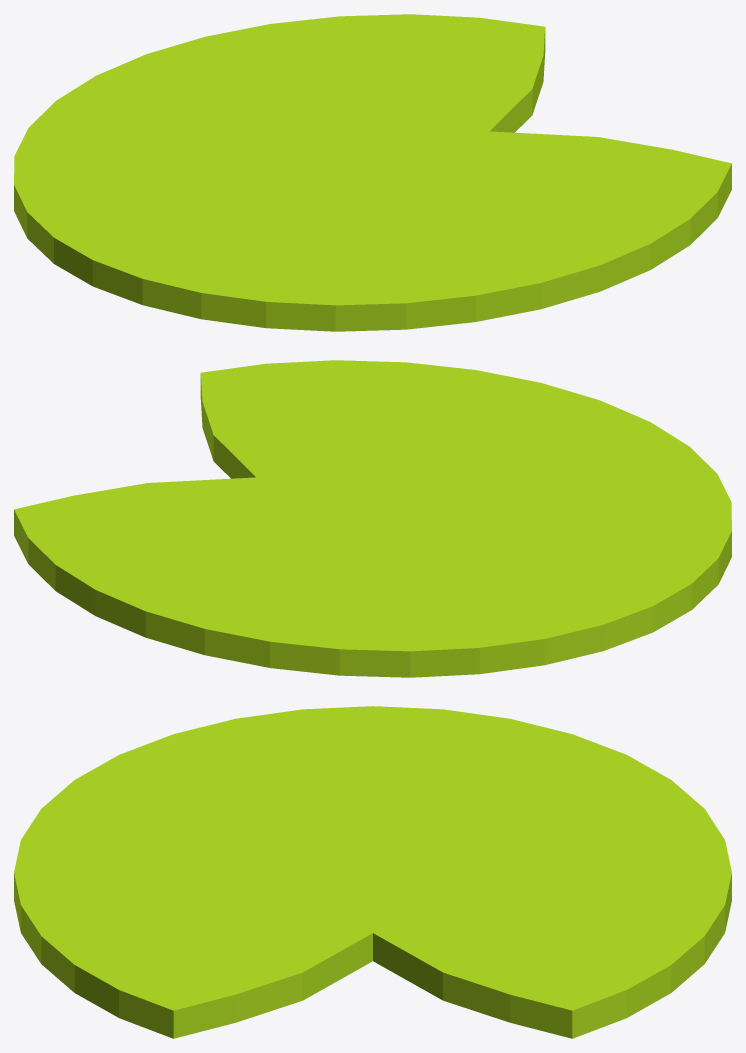
File: Lily.fbx
3 views of the same model, one above another, from view 1: azimuth 30°, elevation 25°; view 2: azimuth 150°, elevation 25°; view 3: azimuth 270°, elevation 25° (orthographic). The views are drawn at different scales.
Visible parts, largest first — view 1: Cylinder; view 2: Cylinder; view 3: Cylinder.
Boxes of the visible parts, x1,y1,x2,y2 form: Cylinder: (14,14,731,331); Cylinder: (14,360,731,677); Cylinder: (14,706,731,1038).
Bounding box in the file's own units: 201 × 8.65 × 200.
